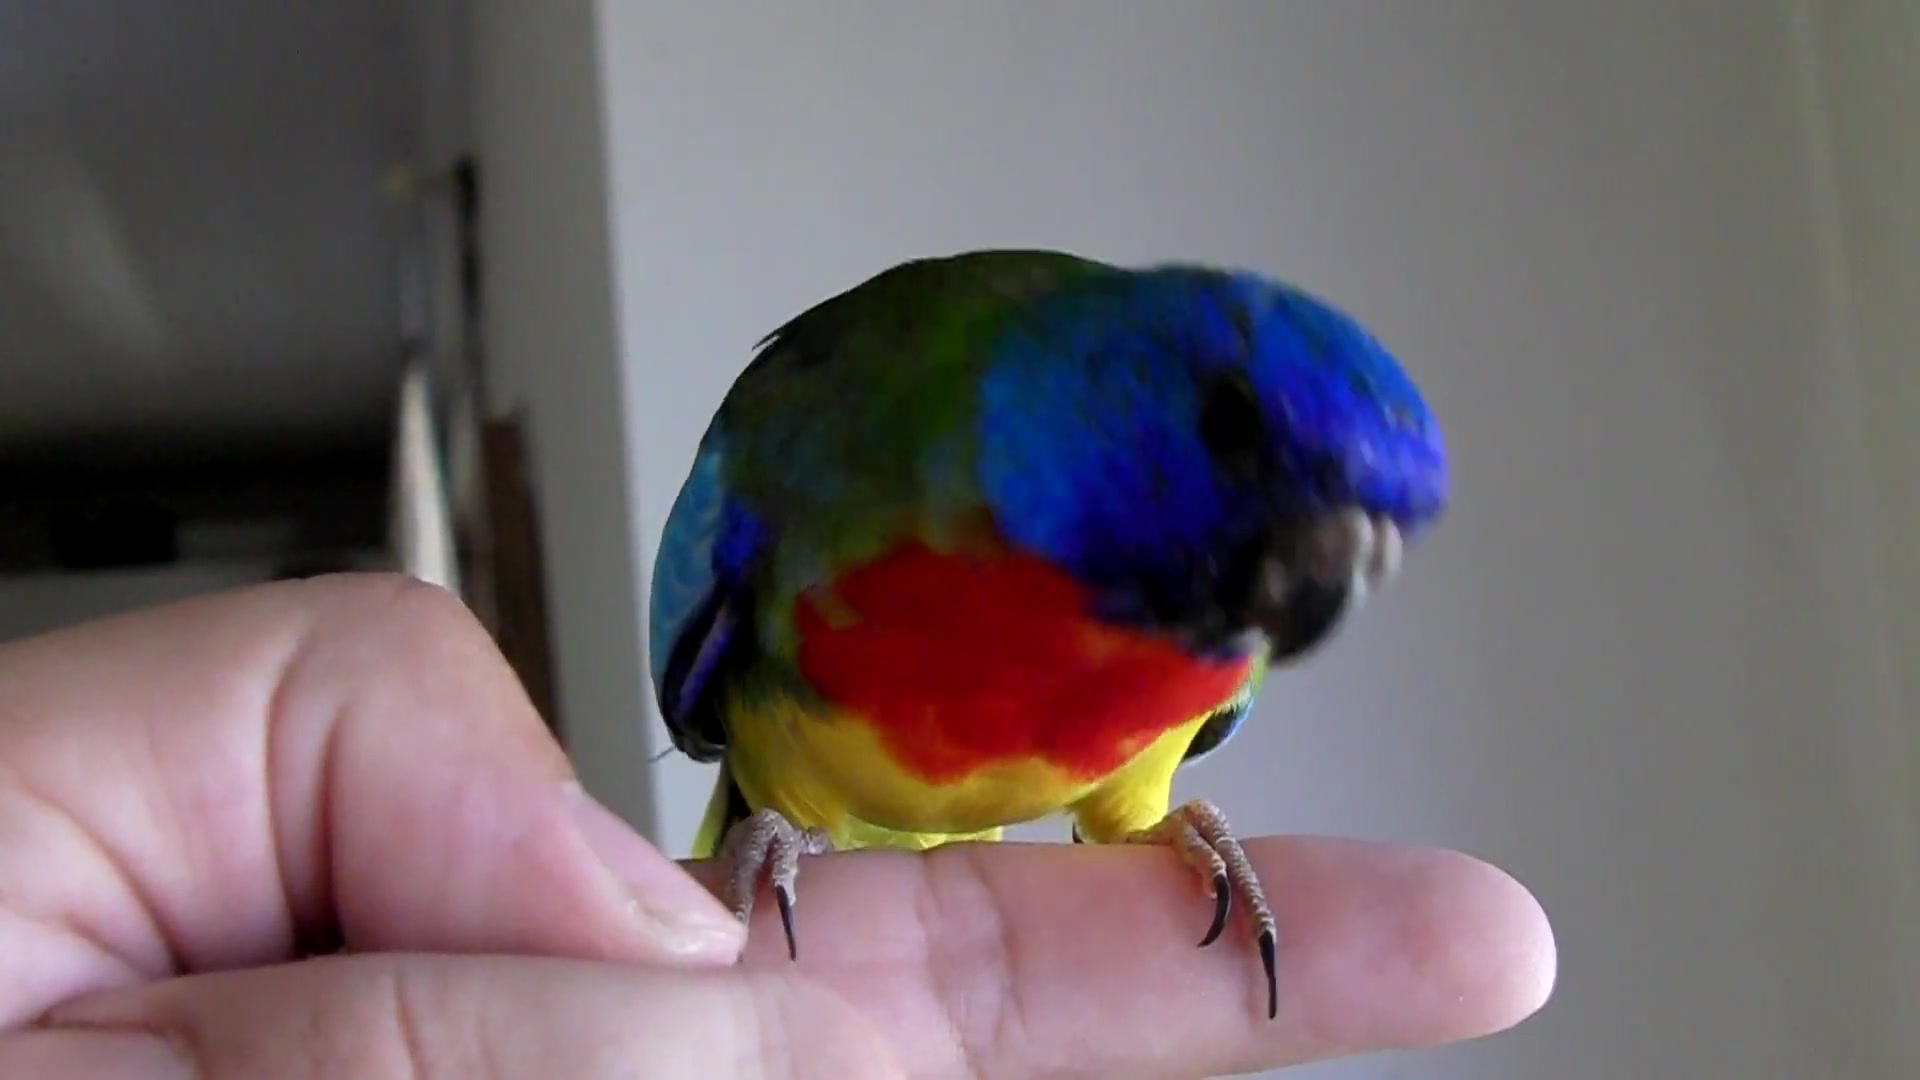bird: (647, 247, 1455, 1025)
